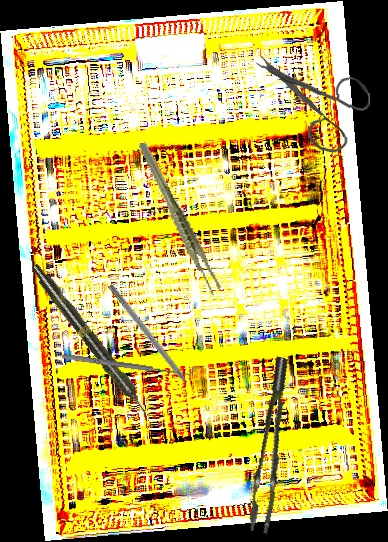Handpiece: (28, 261, 154, 421)
Hook Surgical: (106, 283, 201, 401), (60, 347, 196, 380)
Iris Scissors: (254, 47, 374, 158)
Tissue Forceps: (137, 133, 223, 304), (231, 356, 313, 535)
